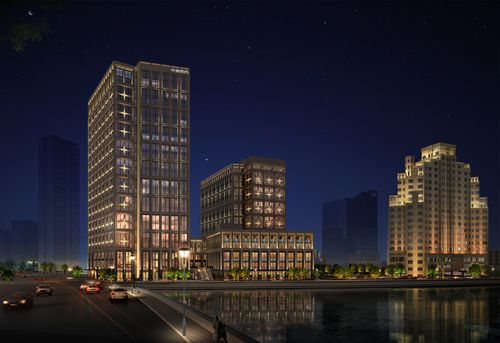buildings: (68, 66, 221, 285), (163, 150, 311, 294), (377, 133, 489, 276), (316, 184, 394, 273)
